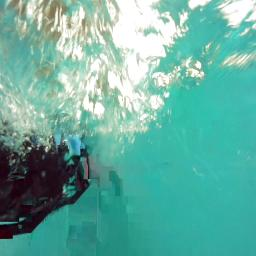Side: (0, 135, 90, 240)
